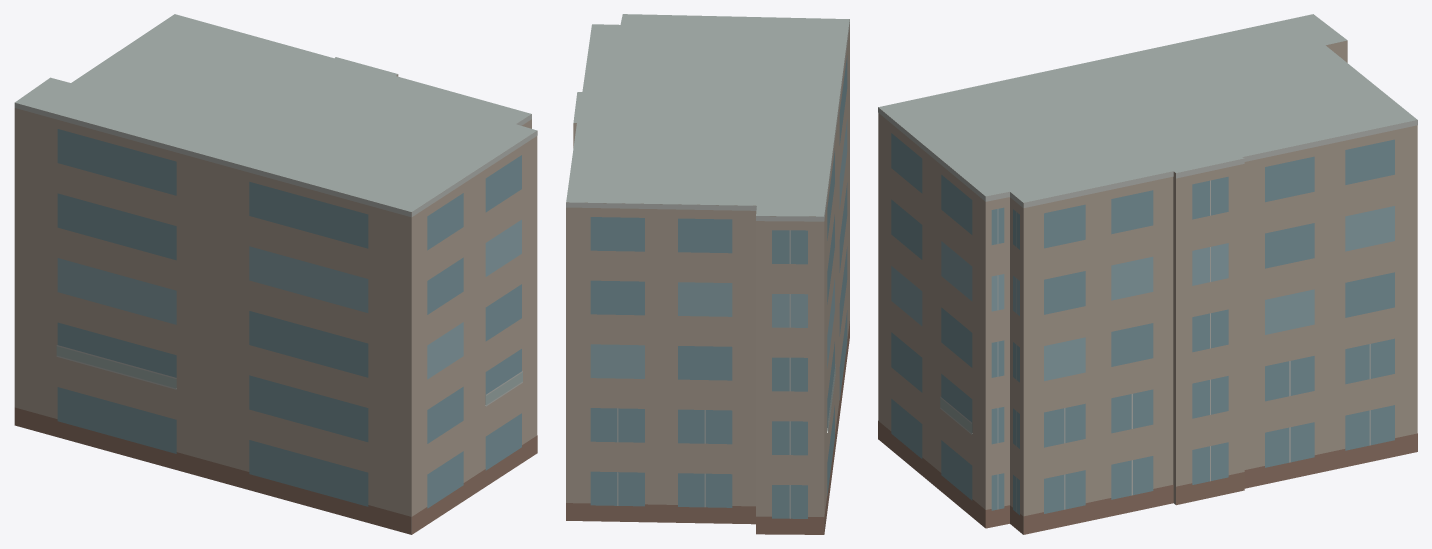
File: survey-upis-32837274.glb
3 views of the same model, side by side, from view 1: azimuth 30°, elevation 25°; view 2: azimuth 150°, elevation 25°; view 3: azimuth 270°, elevation 25° (orthographic). The views are drawn at different scales.
Parts seen in each view (by area): view 1: survey-upis-32837274.tmp; view 2: survey-upis-32837274.tmp; view 3: survey-upis-32837274.tmp.
Part boxes in pixels (x1,y1,x2,y2): survey-upis-32837274.tmp: (14,14,537,534); survey-upis-32837274.tmp: (566,14,849,534); survey-upis-32837274.tmp: (878,14,1417,534).
Bounding box in the file's own units: 18.51 × 15.16 × 22.34.
